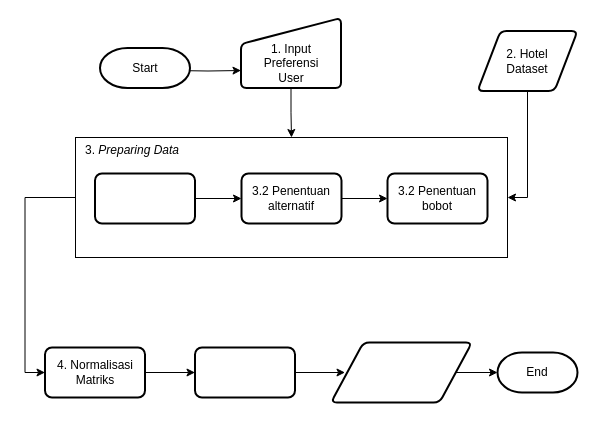
Image size: 595x421. Some labels were removed from this diagram. The centre of each missing label's shape, as x and y in pixels:
"3.1 Penentuan attribut" belongs at pixel 145 198.
"5. Scoring Alternative" belongs at pixel 245 372.
"6. Recommendation" belongs at pixel 401 372.
